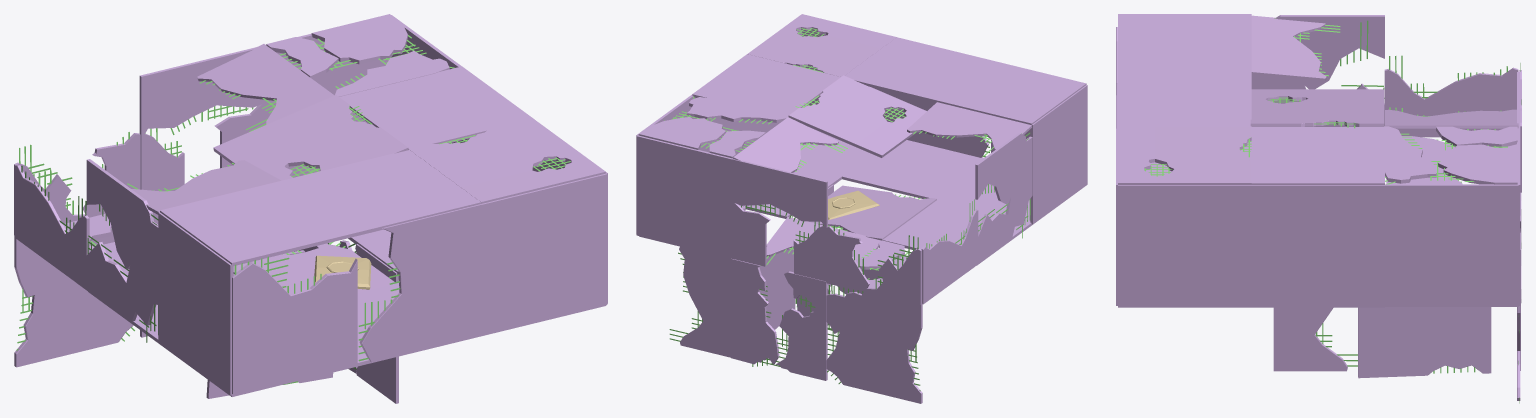
Rendered from lvl 1 yes destruction.fbx.
3 renders of one model, left to right at view 1: azimuth 30°, elevation 25°; view 2: azimuth 150°, elevation 25°; view 3: azimuth 270°, elevation 25°, orthographic. The views are drawn at different scales.
Visible parts, largest first — view 1: plain wall.043, plain wall 8.001, plain wall 8, plain wall.048, plain wall.055, plain wall.054, plain wall 2.002, plain wall.052, doored wall 2, plain wall 2.001, wall fucked 1.001, plain wall 7.004 (+13 smaller); view 2: plain wall.029, plain wall 7.004, wall fucked 2.003, doored wall 2, plain wall 2.001, plain wall.048, plain wall.055, plain wall.054, plain wall.052, plain wall 2.002, plain wall.038, wall fucked 1.001 (+19 smaller); view 3: plain wall.040, plain wall.041, plain wall.042, plain wall 4, plain wall 2.002, plain wall.052, plain wall.055, plain wall.054, wall fucked 4.001, plain wall 2.001, plain wall 5.002, wall fucked 1.001 (+6 smaller).
Boxes of the visible parts, x1,y1,x2,y2 form: plain wall.043: (482,173,607,335); plain wall 8.001: (358,204,482,362); plain wall 8: (232,256,357,394); plain wall.048: (158,212,233,395); plain wall.055: (160,180,356,266); plain wall.054: (285,150,481,235); plain wall 2.002: (409,119,605,203); plain wall.052: (339,66,533,149); doored wall 2: (139,47,266,191); plain wall 2.001: (213,95,408,180); wall fucked 1.001: (86,159,158,342); plain wall 7.004: (14,230,134,367); plain wall.029: (636,135,732,258); plain wall 7.004: (826,285,922,403); wall fucked 2.003: (731,258,827,380); doored wall 2: (731,158,827,281); plain wall 2.001: (788,75,926,157); plain wall.048: (1030,85,1087,224); plain wall.055: (937,60,1086,124); plain wall.054: (844,37,990,102); plain wall.052: (692,54,840,116); plain wall 2.002: (747,14,896,76); plain wall.038: (842,140,983,199); wall fucked 1.001: (975,132,1032,263); plain wall.040: (1385,184,1518,306); plain wall.041: (1251,185,1384,306); plain wall.042: (1118,185,1251,306); plain wall 4: (1358,307,1491,378); plain wall 2.002: (1118,126,1251,184); plain wall.052: (1251,127,1384,184); plain wall.055: (1118,14,1251,70); plain wall.054: (1118,70,1251,126); wall fucked 4.001: (1384,126,1517,184); plain wall 2.001: (1250,89,1384,128); plain wall 5.002: (1384,55,1518,137); wall fucked 1.001: (1251,15,1384,126).
Bounding box in the file's own units: 1211 × 846 × 1216.
